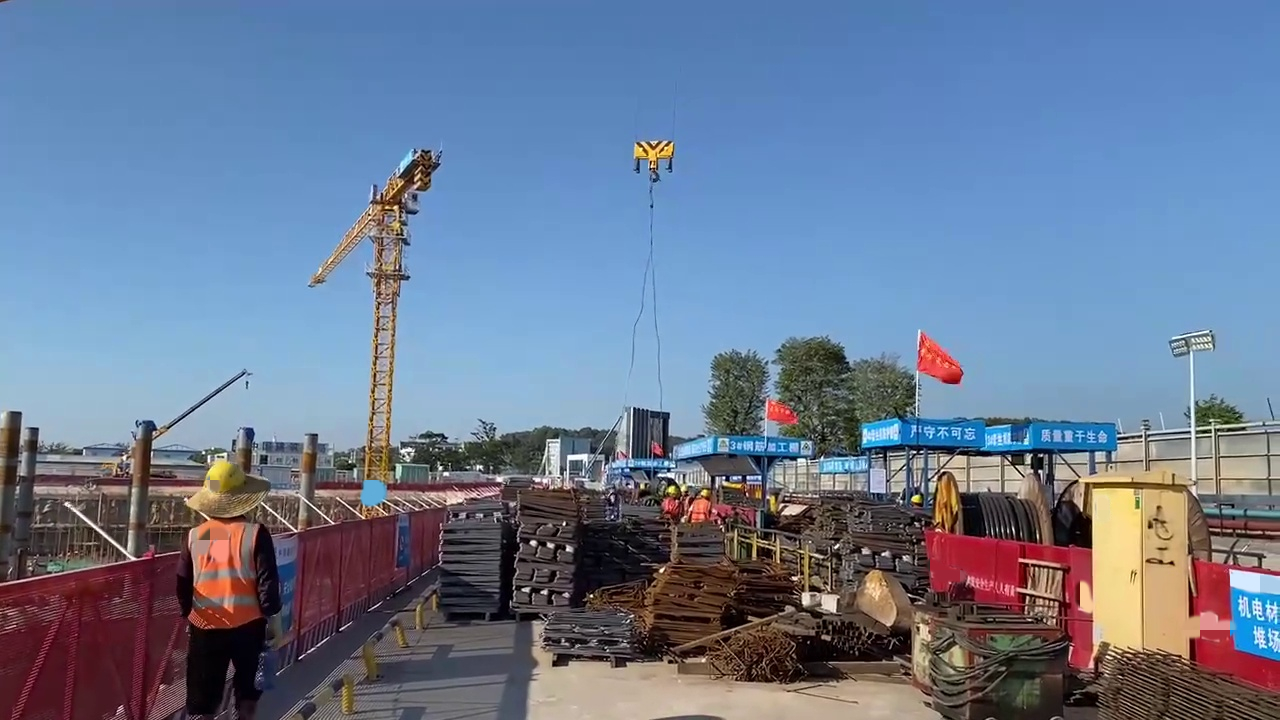ebox: (1084, 472, 1191, 657)
fence: (3, 560, 175, 720), (286, 495, 437, 648), (913, 523, 1089, 637), (1189, 554, 1280, 684)
helmet: (207, 463, 244, 489)
hook: (632, 139, 676, 173)
person: (183, 462, 282, 720), (687, 489, 713, 524), (663, 485, 681, 527), (678, 483, 690, 515)
rebar: (1096, 651, 1264, 720), (507, 484, 578, 617), (440, 495, 509, 611), (647, 559, 725, 655), (704, 616, 799, 693), (806, 607, 895, 668), (831, 502, 870, 606), (594, 582, 657, 632)
slogan: (1032, 422, 1112, 442), (900, 424, 985, 442), (965, 571, 1017, 596)
vest: (188, 523, 267, 635), (691, 497, 710, 524)
